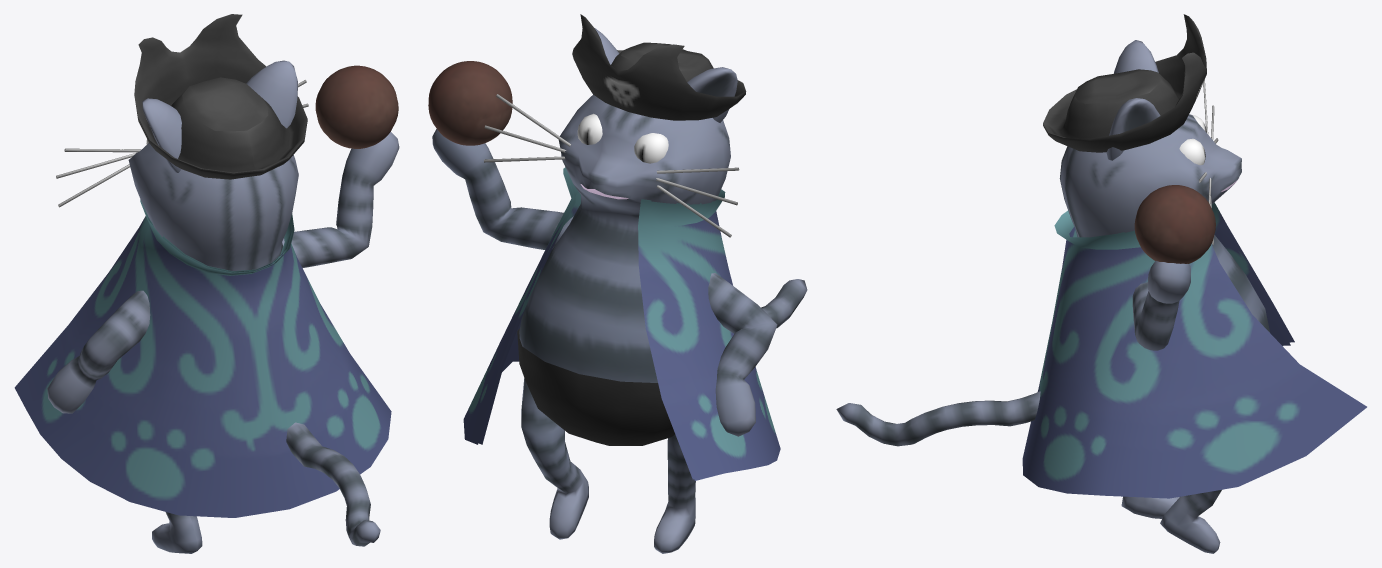
File: neko_walk_b_04.fbx
3 renders of one model, left to right at view 1: azimuth 30°, elevation 25°; view 2: azimuth 150°, elevation 25°; view 3: azimuth 270°, elevation 25°, orthographic. The views are drawn at different scales.
Visible parts, largest first — view 1: W_b_04; view 2: W_b_04; view 3: W_b_04.
Part boxes in pixels (x1,y1,x2,y2): W_b_04: (14,14,399,553); W_b_04: (428,14,807,553); W_b_04: (836,14,1366,553).
Bounding box in the file's own units: 1.36 × 1.99 × 1.93.
1 material, 1 textured.
